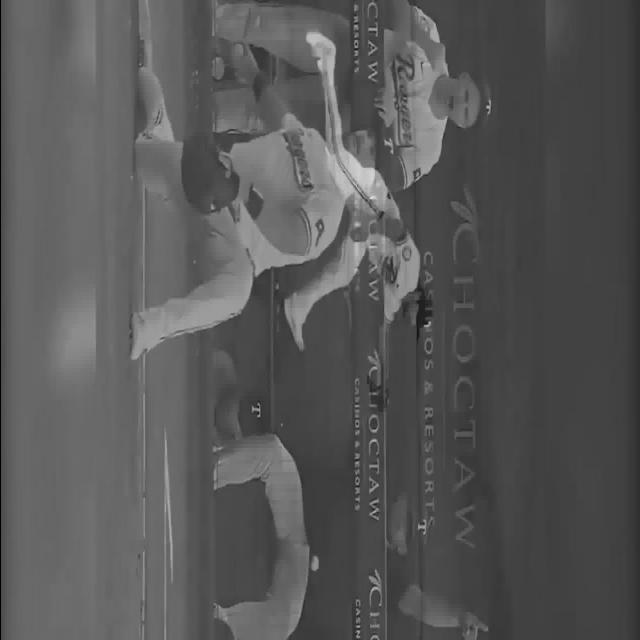baseball: (311, 558, 315, 570)
baseball_glove: (180, 132, 240, 216)
shoe: (129, 311, 148, 360)
